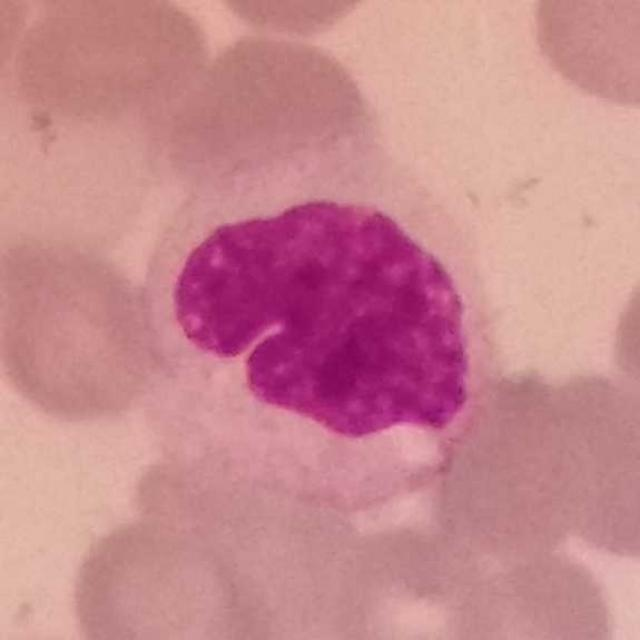Monocyte: (138, 120, 492, 509)
RBC: (165, 24, 386, 200), (426, 370, 611, 558), (0, 230, 163, 428), (62, 513, 274, 640), (8, 1, 214, 129), (310, 527, 515, 640), (531, 370, 640, 562), (430, 540, 626, 640), (522, 0, 640, 115), (554, 499, 639, 639), (189, 0, 393, 41), (604, 246, 640, 431), (0, 0, 38, 105)
